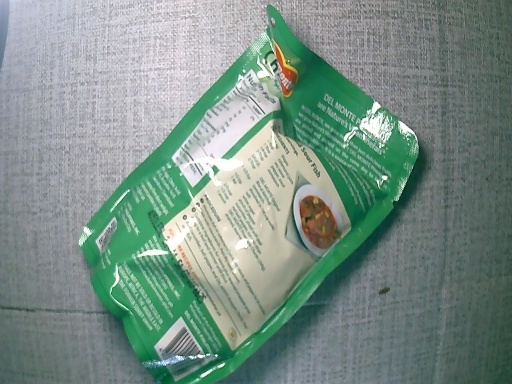plastic: (76, 6, 416, 384)
